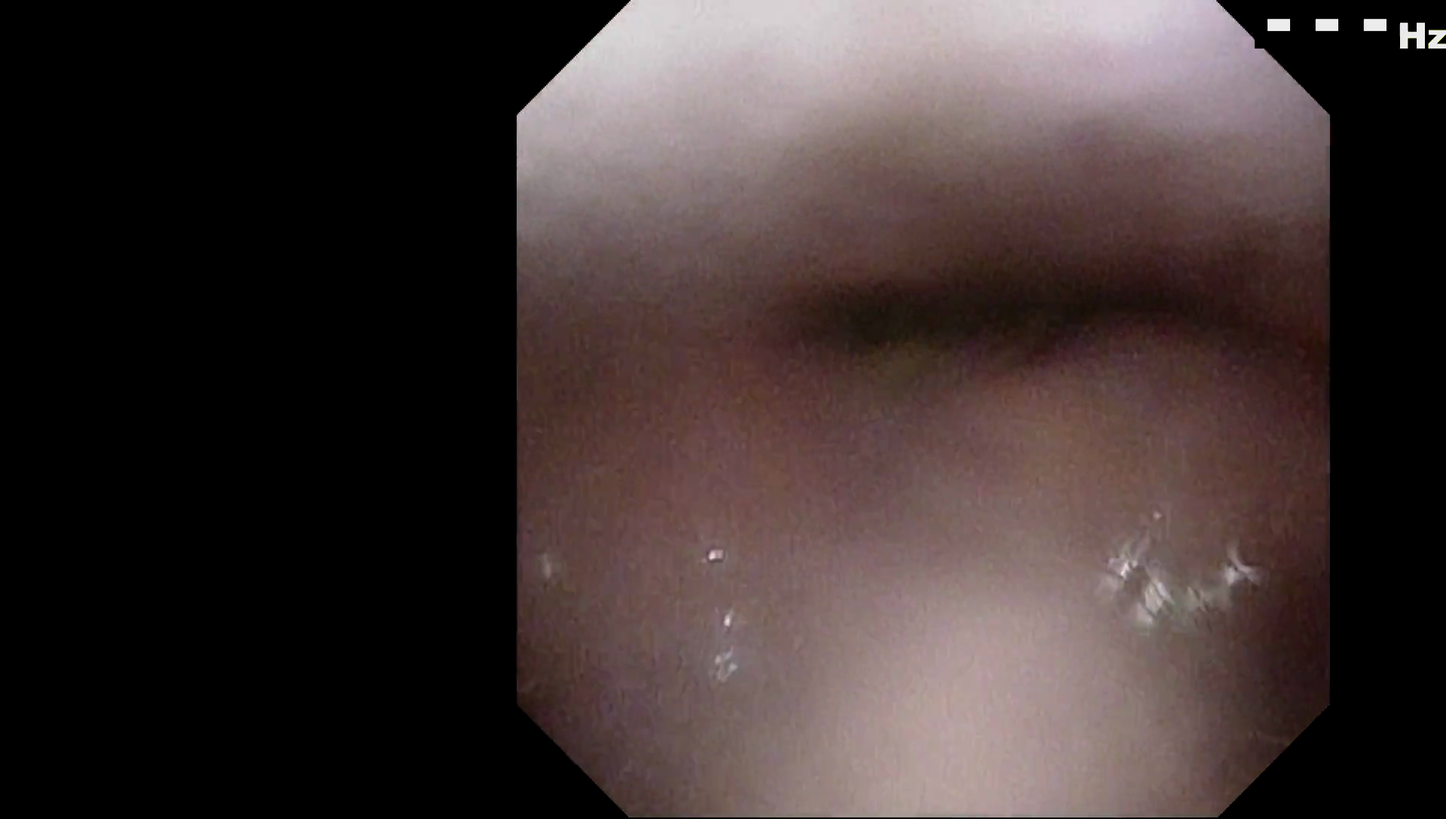next: (794, 260, 1262, 373)
